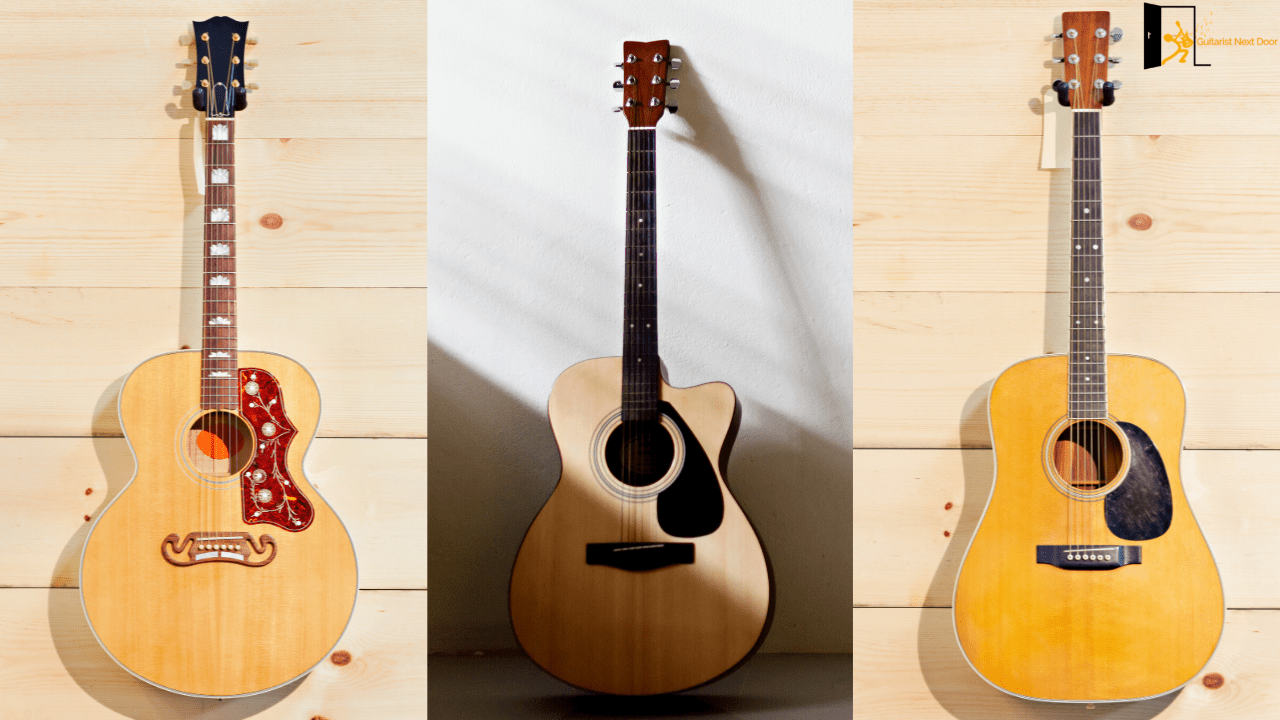guitar: (78, 15, 360, 707), (951, 24, 1225, 710), (506, 43, 776, 698)
